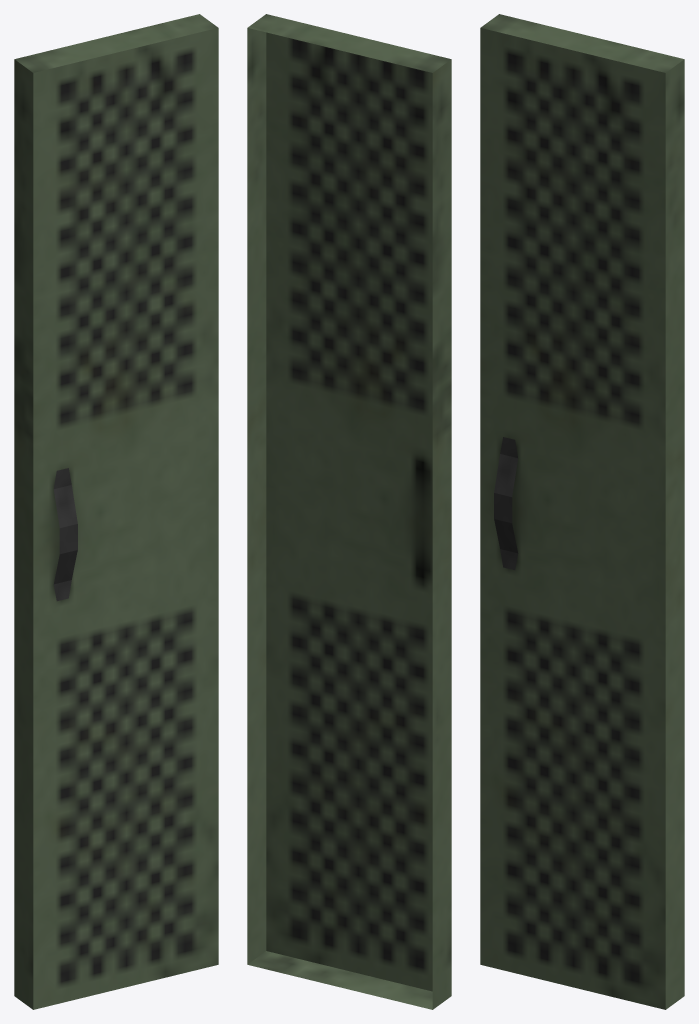
The model's file is Locker Door Right Army.fbx.
3 renders of one model, left to right at view 1: azimuth 30°, elevation 25°; view 2: azimuth 150°, elevation 25°; view 3: azimuth 330°, elevation 25°, orthographic.
Parts seen in each view (by area): view 1: Gray MLocker Door 2; view 2: Gray MLocker Door 2; view 3: Gray MLocker Door 2.
Boxes of the visible parts, x1=… form: Gray MLocker Door 2: x1=14, y1=14, x2=218, y2=1009; Gray MLocker Door 2: x1=247, y1=14, x2=451, y2=1009; Gray MLocker Door 2: x1=480, y1=14, x2=684, y2=1009.
Bounding box in the file's own units: 28.32 × 137 × 6.69.
